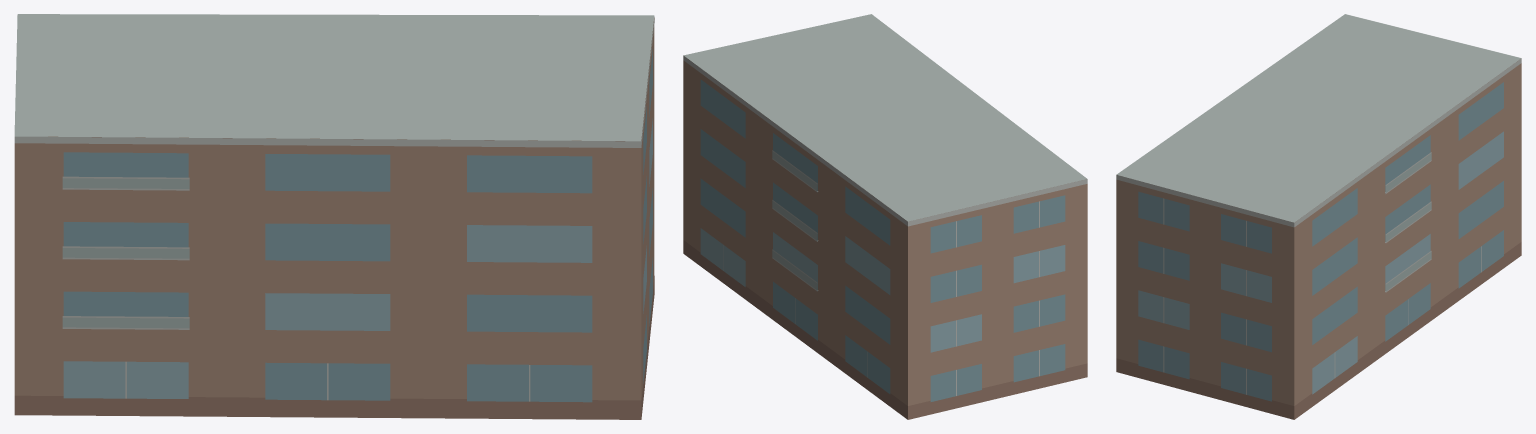
Rendered from survey-upis-32774184.glb.
3 views of the same model, side by side, from view 1: azimuth 30°, elevation 25°; view 2: azimuth 150°, elevation 25°; view 3: azimuth 270°, elevation 25° (orthographic). The views are drawn at different scales.
Parts seen in each view (by area): view 1: survey-upis-32774184.tmp; view 2: survey-upis-32774184.tmp; view 3: survey-upis-32774184.tmp.
Part boxes in pixels (x1,y1,x2,y2): survey-upis-32774184.tmp: (14, 14, 654, 419); survey-upis-32774184.tmp: (683, 14, 1087, 419); survey-upis-32774184.tmp: (1116, 14, 1521, 419).
Bounding box in the file's own units: 22.7 × 10 × 18.63.
